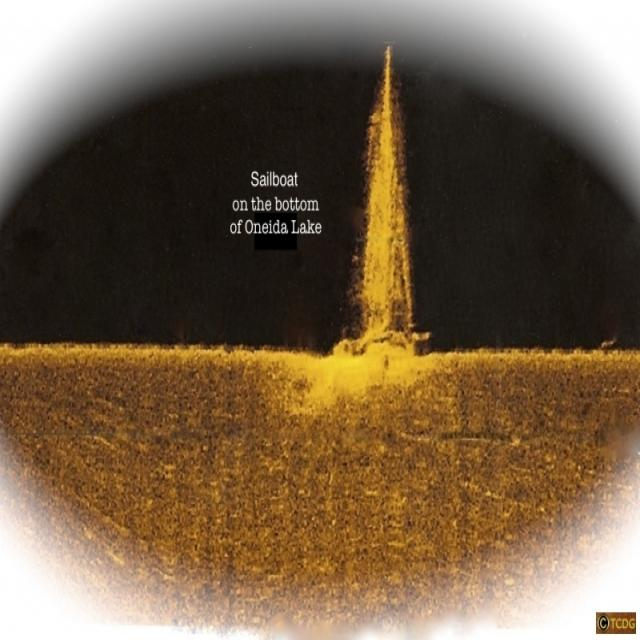ship: (350, 39, 436, 372)
